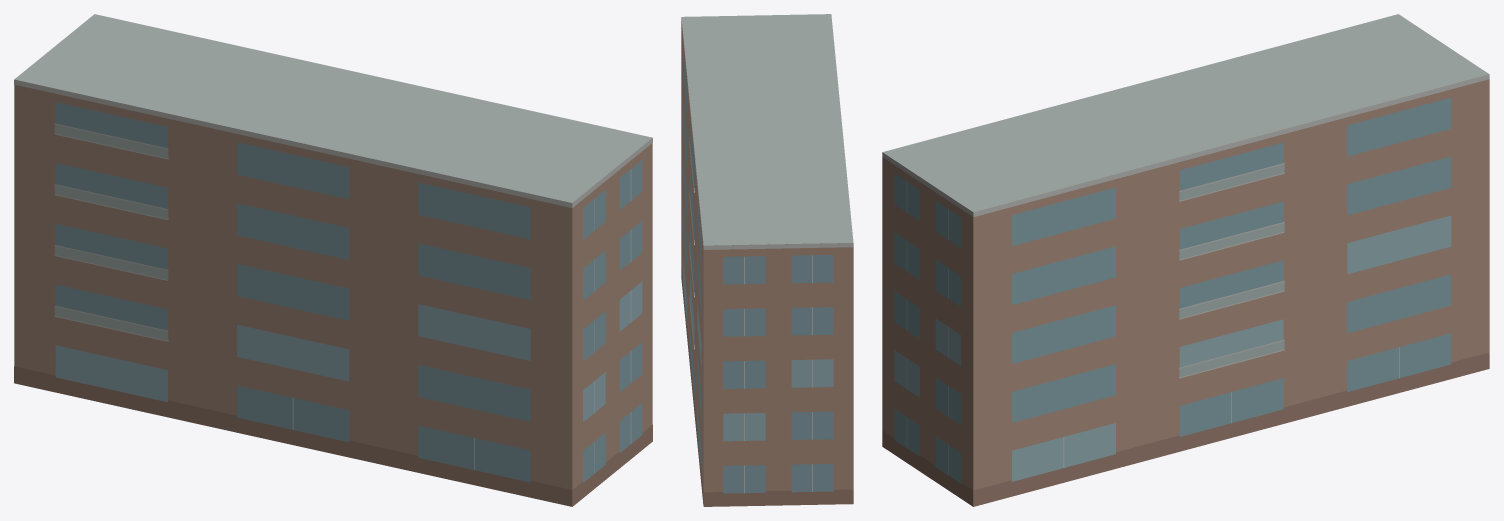
Rendered from survey-upis-32868684.glb.
The picture shows the model from 3 angles, left to right: view 1: azimuth 30°, elevation 25°; view 2: azimuth 150°, elevation 25°; view 3: azimuth 270°, elevation 25°; orthographic projection. The views are drawn at different scales.
Visible parts, largest first — view 1: survey-upis-32868684.tmp; view 2: survey-upis-32868684.tmp; view 3: survey-upis-32868684.tmp.
Part boxes in pixels (x1,y1,x2,y2): survey-upis-32868684.tmp: [14, 14, 652, 506]; survey-upis-32868684.tmp: [681, 14, 853, 506]; survey-upis-32868684.tmp: [882, 14, 1489, 506].
Size of the model in its own units: 21.32 by 14.75 by 27.57.
